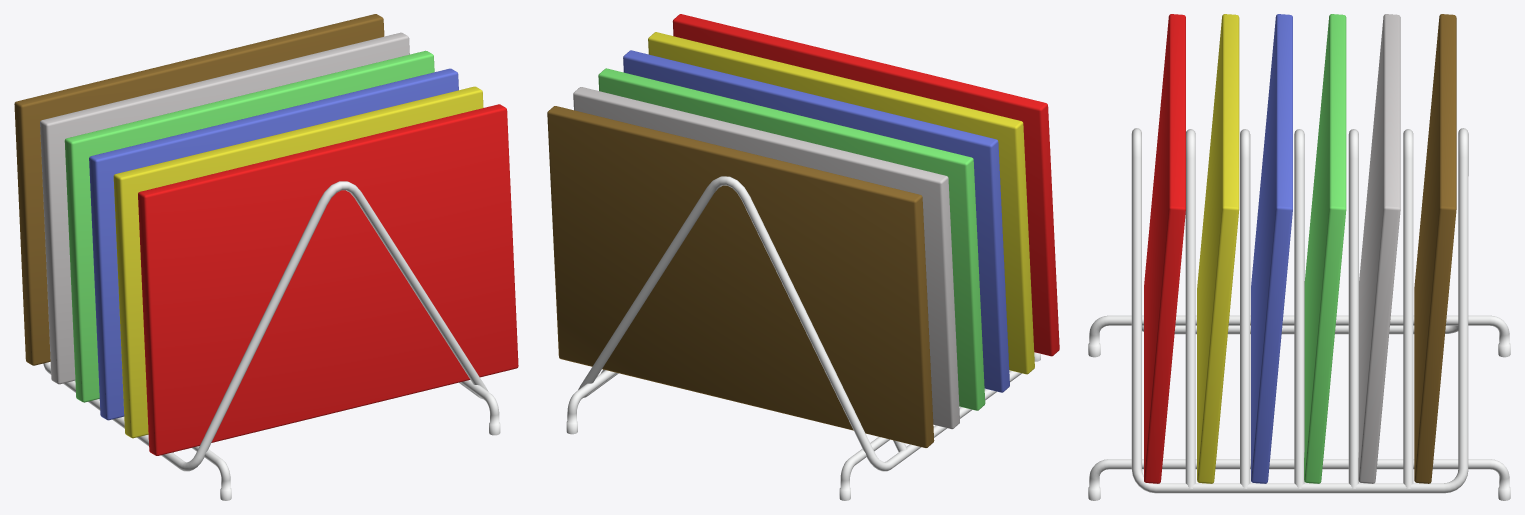
File: Talenan.fbx
3 views of the same model, side by side, from view 1: azimuth 30°, elevation 25°; view 2: azimuth 150°, elevation 25°; view 3: azimuth 270°, elevation 25° (orthographic). The views are drawn at different scales.
Visible parts, largest first — view 1: Talenan Merah, Talenan Cokelat, Talenan Putih, Talenan Biru, Talenan Kuning, Talenan Hijau, Dudukan Talenan; view 2: Talenan Cokelat, Talenan Putih, Talenan Hijau, Talenan Kuning, Talenan Biru, Talenan Merah, Dudukan Talenan; view 3: Dudukan Talenan, Talenan Cokelat, Talenan Kuning, Talenan Hijau, Talenan Putih, Talenan Merah, Talenan Biru.
Part boxes in pixels (x1,y1,x2,y2): Talenan Merah: (138, 104, 518, 455); Talenan Cokelat: (14, 14, 384, 365); Talenan Putih: (40, 32, 409, 384); Talenan Biru: (89, 68, 458, 420); Talenan Kuning: (113, 86, 483, 438); Talenan Hijau: (64, 50, 434, 402); Dudukan Talenan: (43, 181, 500, 500); Talenan Cokelat: (547, 106, 934, 447); Talenan Putih: (573, 87, 959, 429); Talenan Hijau: (598, 68, 985, 410); Talenan Kuning: (648, 32, 1034, 374); Talenan Biru: (623, 50, 1009, 392); Talenan Merah: (672, 14, 1059, 356); Dudukan Talenan: (566, 176, 1040, 500); Dudukan Talenan: (1088, 128, 1510, 500); Talenan Cokelat: (1414, 14, 1456, 483); Talenan Kuning: (1197, 14, 1239, 483); Talenan Hijau: (1304, 14, 1346, 483); Talenan Putih: (1358, 14, 1400, 483); Talenan Merah: (1144, 14, 1185, 483); Talenan Biru: (1251, 14, 1292, 483).
Bounding box in the file's own units: 44.97 × 34.17 × 41.33.
Materials: 1 (1 with a texture image).
